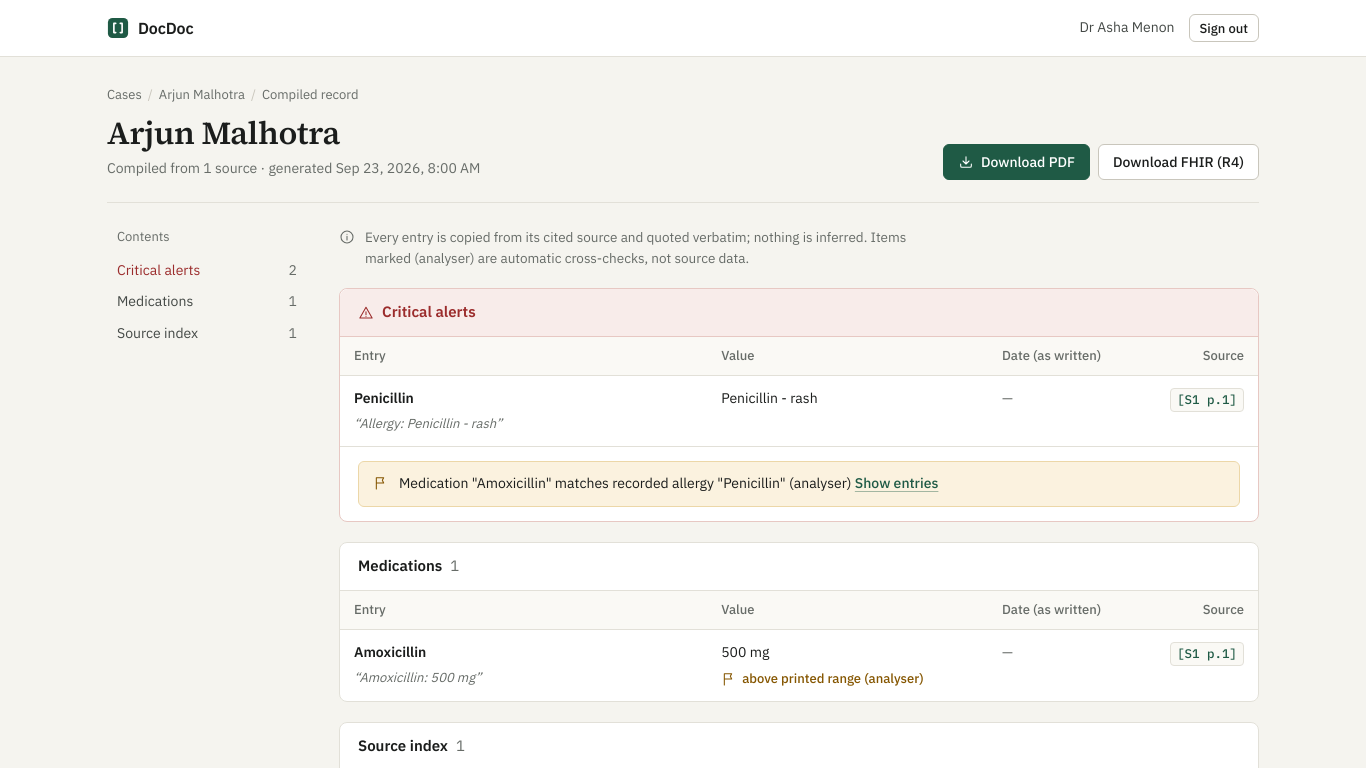
Scenario: compiled record › shows alerts and opens a citation with the quote highlighted, returning focus on close
The width and height of the screenshot is (1366, 768).
Check: the text "matches recorded allergy \"Penicillin\" (analyser)" is shown, box [399,474,852,492]
Check: the text "above printed range (analyser)" is shown, box [742,668,924,689]
Click the 1st link "[S1 p.1]": {"x": 1207, "y": 400} [1170,388,1244,412]
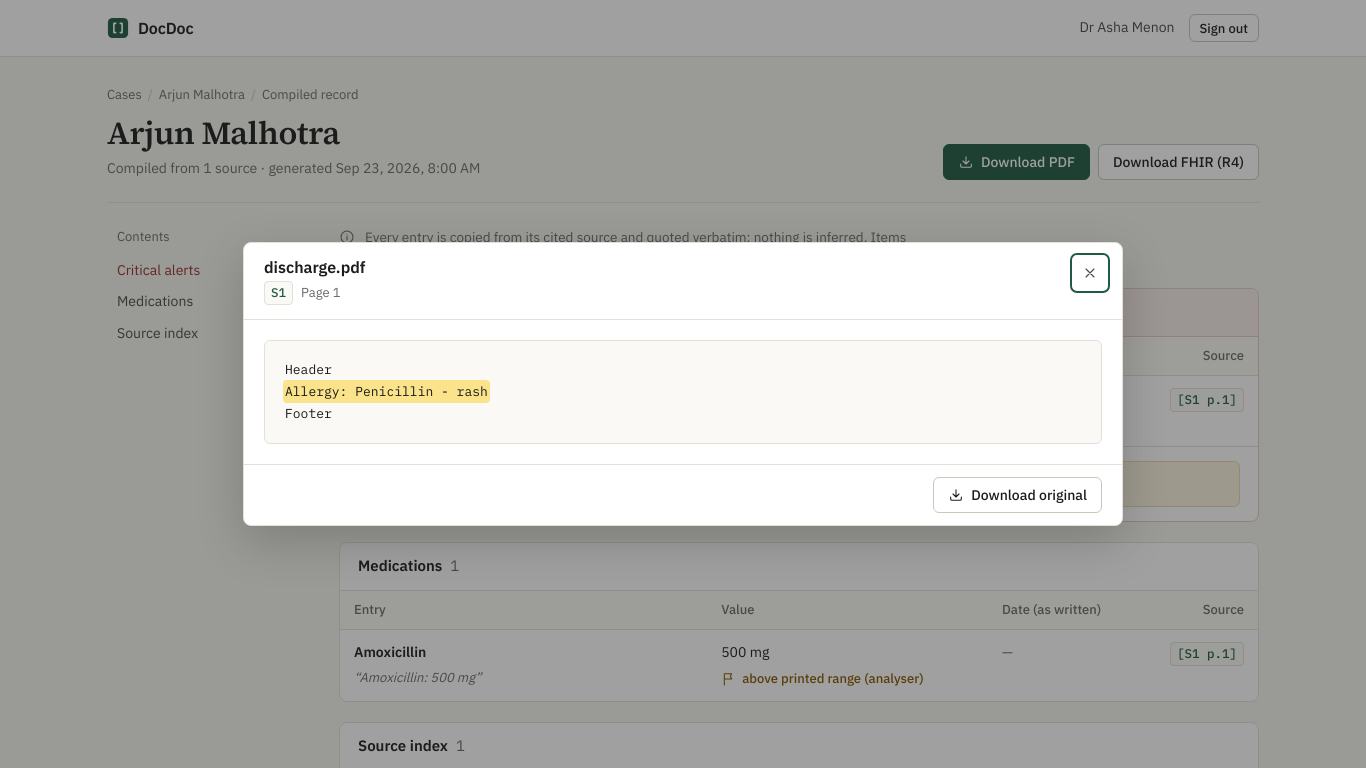
Check: the text "Allergy: Penicillin - rash" is shown, box [285,382,488,401]
Click the button named "Close": {"x": 1090, "y": 273} [1074,257,1106,289]
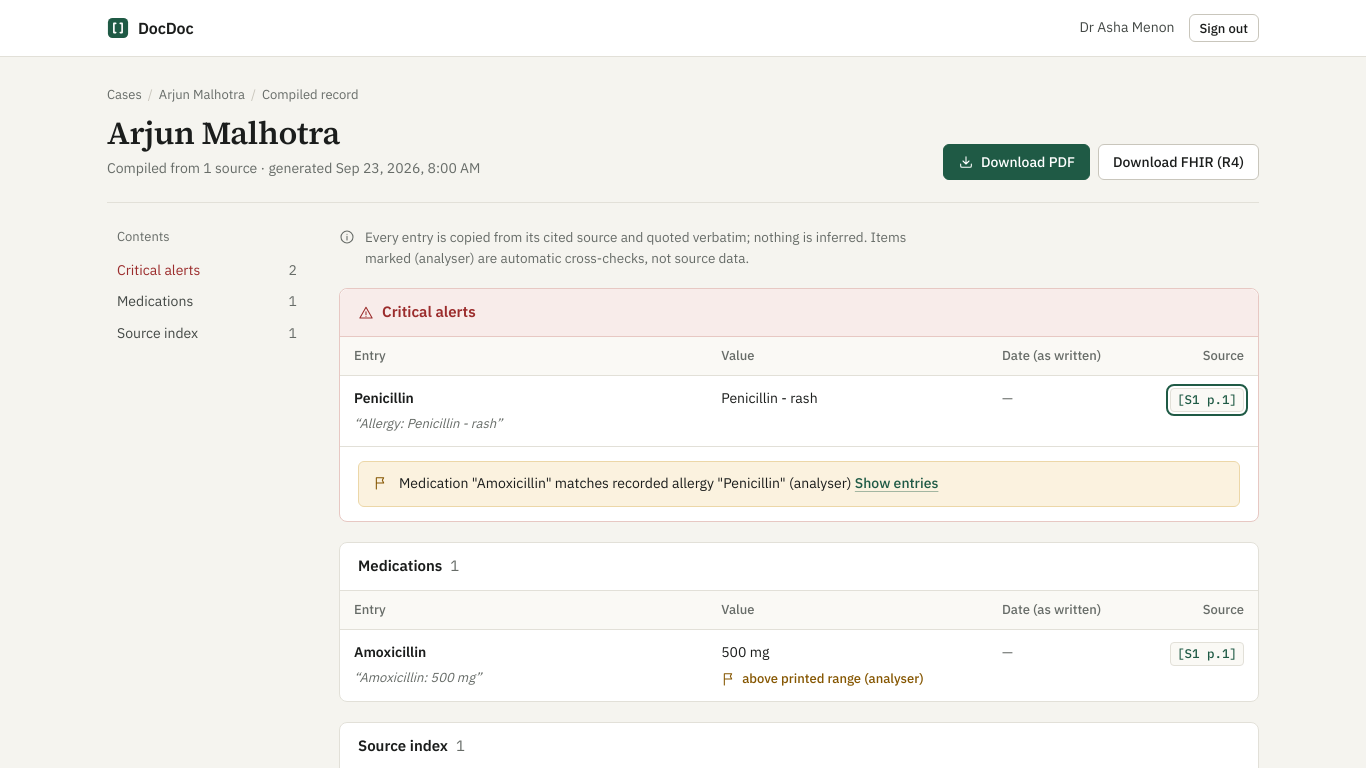
Check: the dialog is gone
